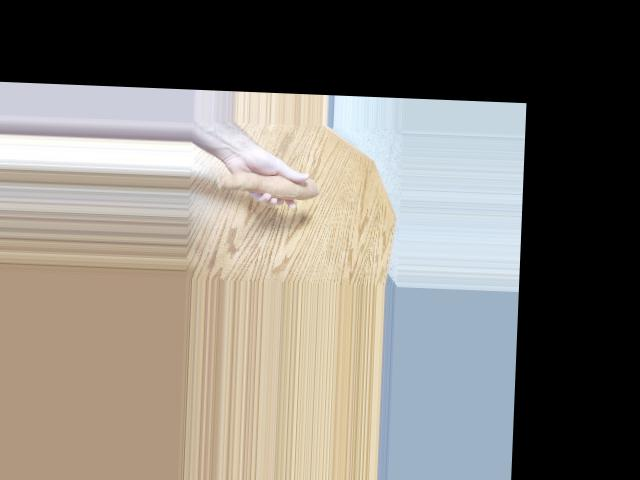sweet_potato: (212, 159, 328, 204)
